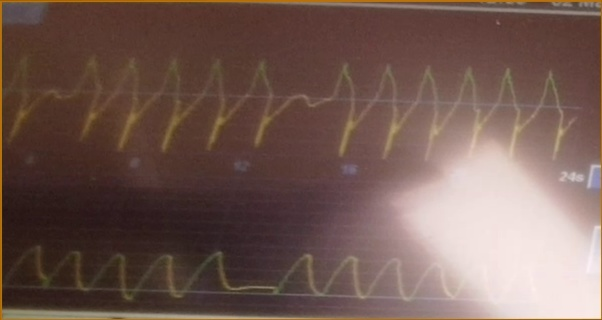Ineffective_effort Flow: (4, 46, 582, 163)
Ineffective_effort Volume: (3, 230, 512, 307)
